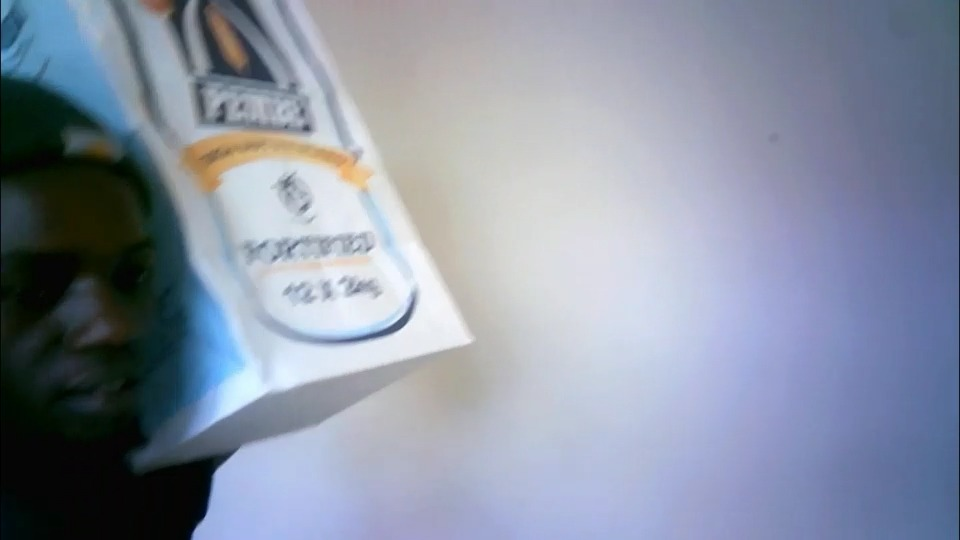wheat_flour_blue_label: (0, 0, 474, 471)
